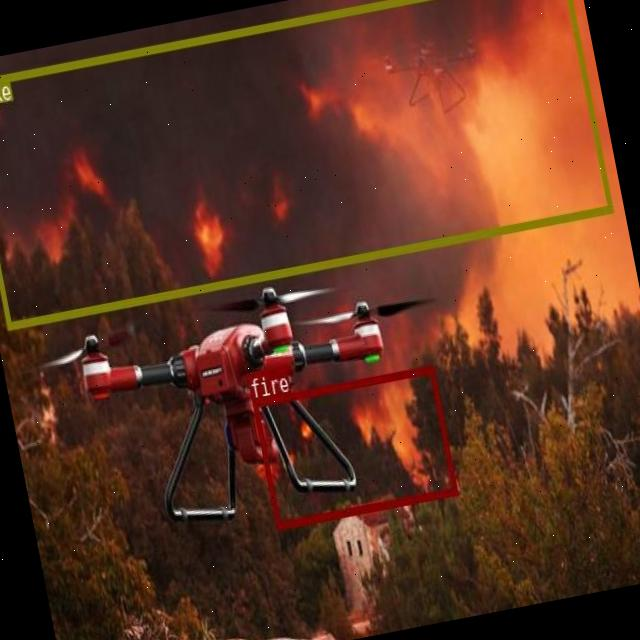fire: (252, 364, 458, 528)
smoke: (0, 0, 613, 329)
